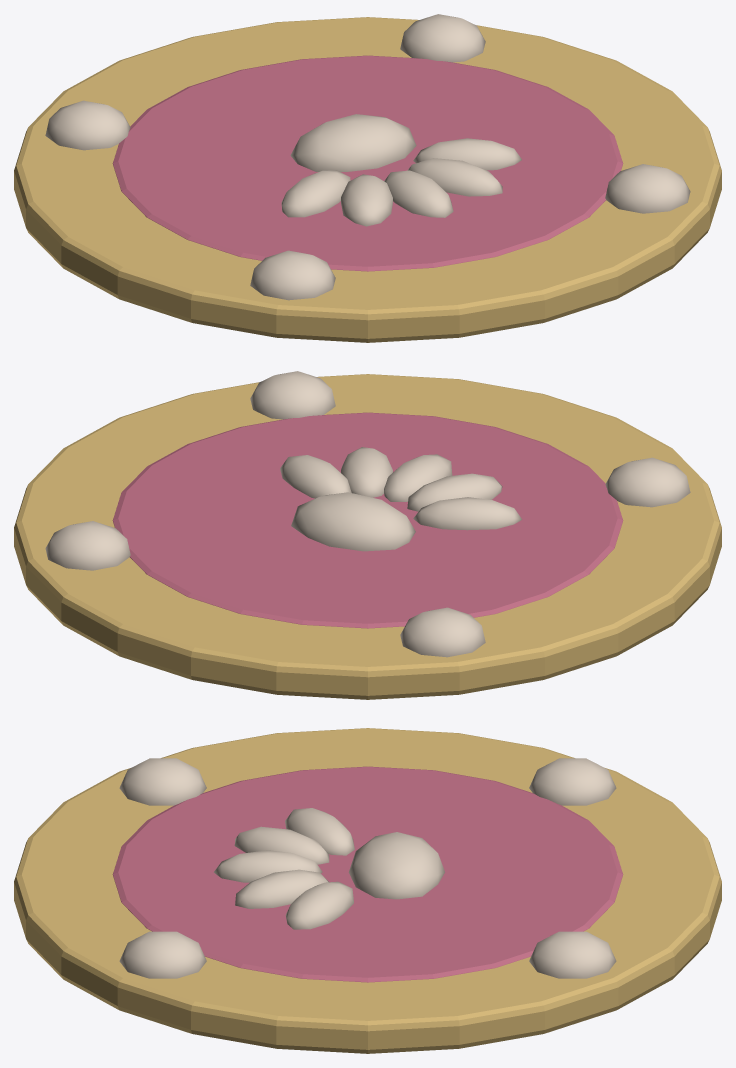
The model's file is opera_medallion_dark.glb.
The picture shows the model from 3 angles, top to bottom: view 1: azimuth 30°, elevation 25°; view 2: azimuth 150°, elevation 25°; view 3: azimuth 270°, elevation 25°; orthographic projection.
Visible parts, largest first — view 1: opera_medallion_dark.001; view 2: opera_medallion_dark.001; view 3: opera_medallion_dark.001.
Part boxes in pixels (x1,y1,x2,y2): opera_medallion_dark.001: (14,14,721,342); opera_medallion_dark.001: (14,371,721,699); opera_medallion_dark.001: (14,728,721,1053).
Size of the model in its own units: 5.5 by 0.61 by 5.5.
